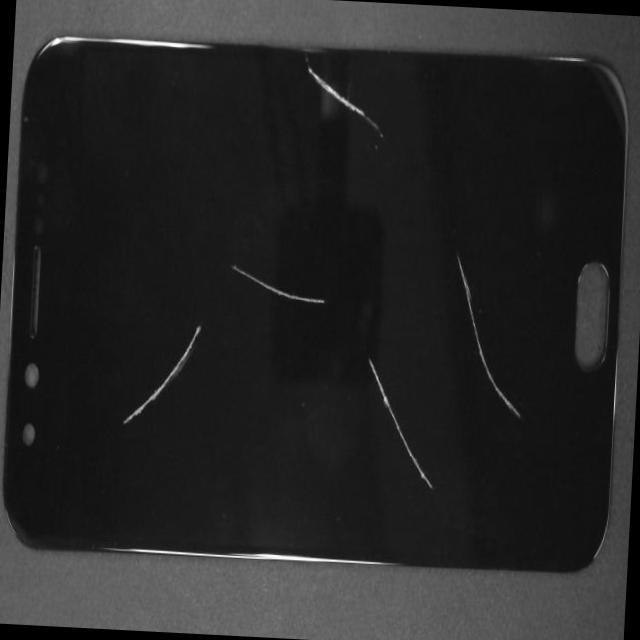scratch: (445, 262, 525, 416), (360, 362, 439, 500), (121, 324, 199, 434), (298, 56, 390, 145), (230, 264, 330, 316)
